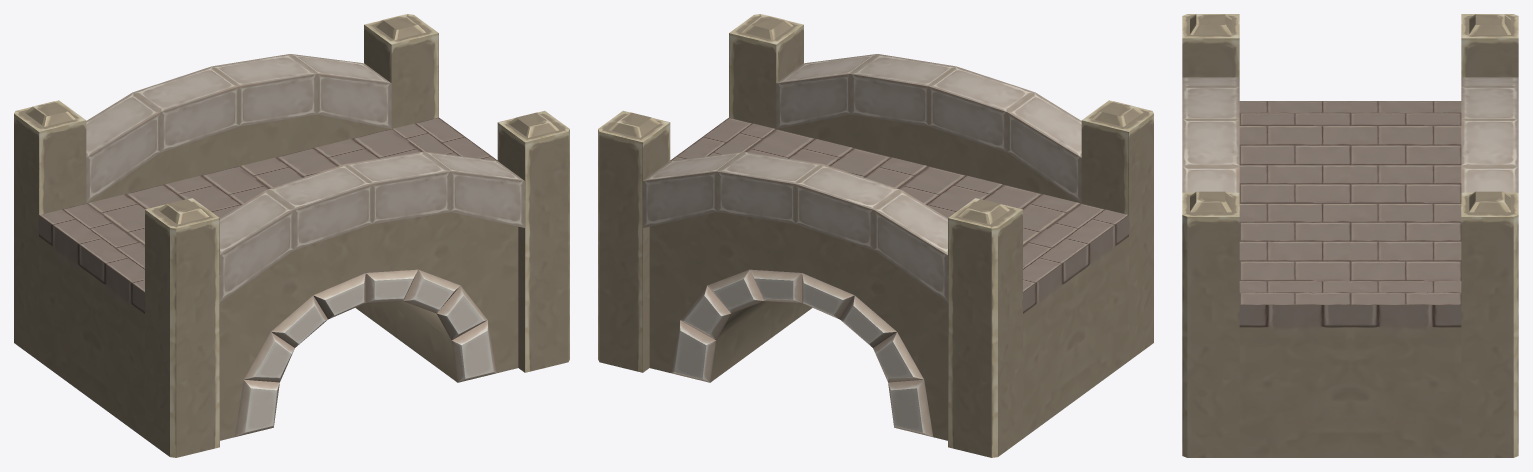
File: bridge_HD.fbx
3 renders of one model, left to right at view 1: azimuth 30°, elevation 25°; view 2: azimuth 150°, elevation 25°; view 3: azimuth 270°, elevation 25°, orthographic. The views are drawn at different scales.
Parts seen in each view (by area): view 1: Bridge1; view 2: Bridge1; view 3: Bridge1.
Boxes of the visible parts, x1,y1,x2,y2 form: Bridge1: (14, 14, 569, 457); Bridge1: (598, 14, 1153, 457); Bridge1: (1182, 14, 1518, 457).
Bounding box in the file's own units: 3.05 × 1.73 × 2.13.
